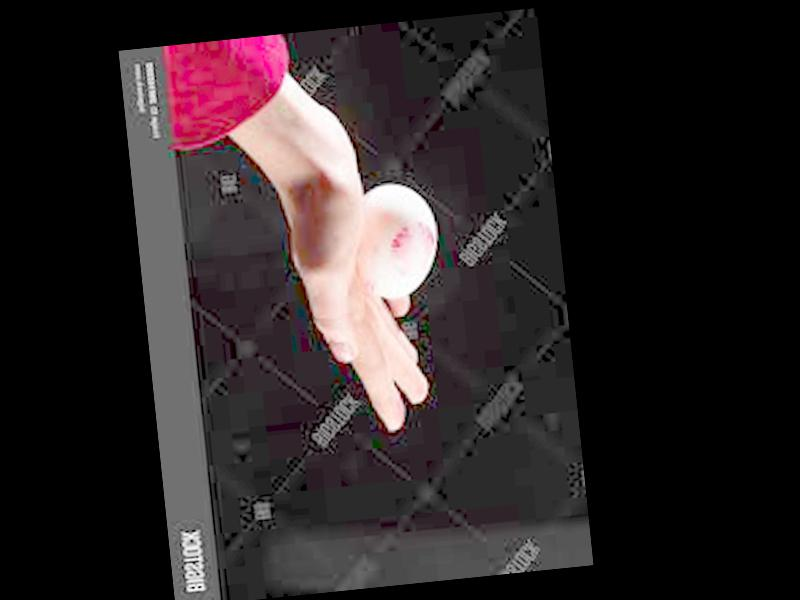Eggs: (356, 178, 443, 297)
